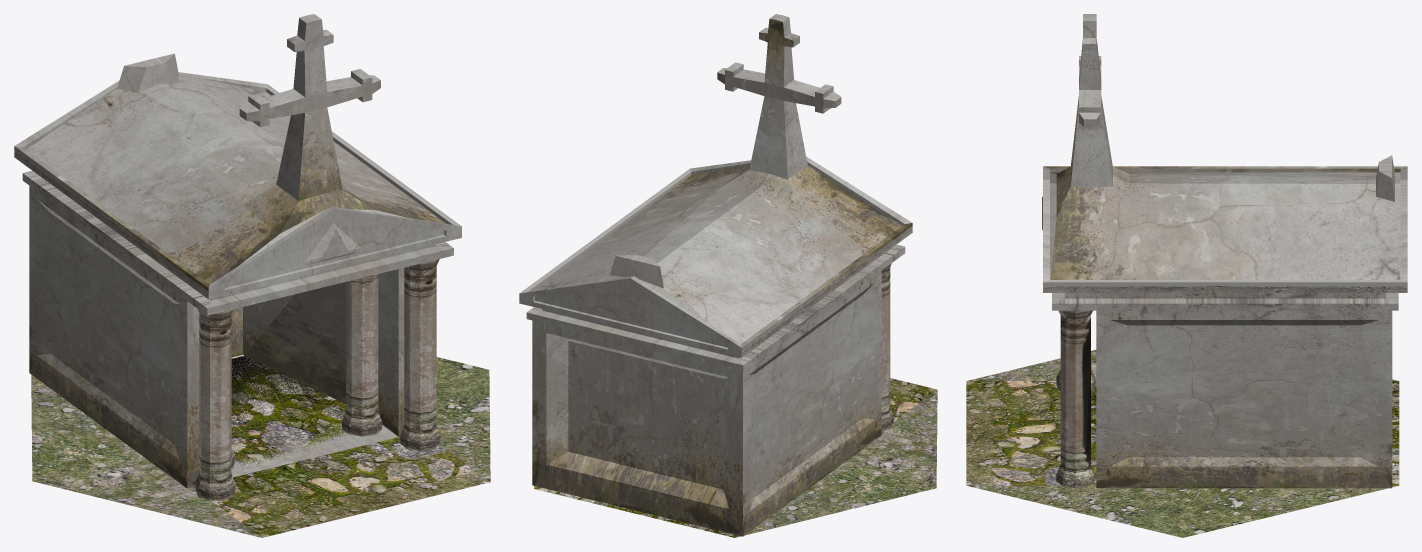
File: graveyard_house_GEO_01.fbx
3 renders of one model, left to right at view 1: azimuth 30°, elevation 25°; view 2: azimuth 150°, elevation 25°; view 3: azimuth 270°, elevation 25°, orthographic. The views are drawn at different scales.
Visible parts, largest first — view 1: graveyard_HQ_GEO_01; view 2: graveyard_HQ_GEO_01; view 3: graveyard_HQ_GEO_01.
Boxes of the visible parts, x1,y1,x2,y2 form: graveyard_HQ_GEO_01: (14, 14, 490, 537); graveyard_HQ_GEO_01: (519, 14, 937, 537); graveyard_HQ_GEO_01: (966, 14, 1407, 537).
Size of the model in its own units: 2 by 1.86 by 1.78.
Materials: 5 (5 with a texture image).
